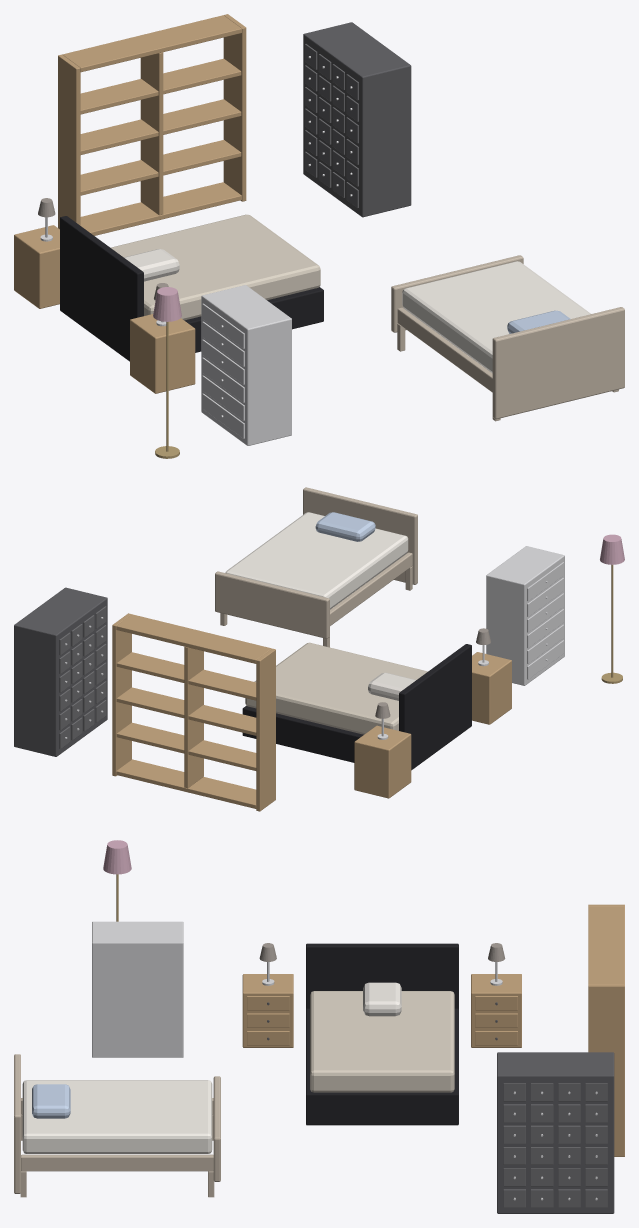
Rendered from agent_scene.glb.
The picture shows the model from 3 angles, top to bottom: view 1: azimuth 30°, elevation 25°; view 2: azimuth 150°, elevation 25°; view 3: azimuth 270°, elevation 25°; orthographic projection. The views are drawn at different scales.
Visible parts, largest first — view 1: bookshelf, bed_beige, bed_black, cabinet_dark, dresser_marble, nightstand_2, nightstand_1, lamp_floor; view 2: bookshelf, bed_beige, bed_black, cabinet_dark, dresser_marble, nightstand_1, nightstand_2, lamp_floor; view 3: bed_black, bed_beige, cabinet_dark, dresser_marble, bookshelf, nightstand_2, nightstand_1, lamp_floor.
Boxes of the visible parts, x1,y1,x2,y2 form: bookshelf: (58,14,246,235); bed_beige: (391,255,624,421); bed_black: (60,214,323,361); cabinet_dark: (303,22,411,217); dresser_marble: (201,285,291,445); nightstand_2: (130,314,195,393); nightstand_1: (14,225,59,308); lamp_floor: (153,287,181,458); bookshelf: (112,613,275,811); bed_beige: (215,487,417,647); bed_black: (242,642,471,770); cabinet_dark: (14,587,107,756); dresser_marble: (486,546,564,685); nightstand_1: (354,725,411,798); nightstand_2: (472,652,511,724); lamp_floor: (600,534,624,683); bed_black: (306,943,458,1125); bed_beige: (14,1054,220,1197); cabinet_dark: (497,1052,614,1213); dresser_marble: (92,921,183,1057); bookshelf: (588,904,624,1156); nightstand_2: (242,974,293,1047); nightstand_1: (471,974,521,1047); lamp_floor: (103,840,131,921).
Size of the model in its own units: 5.05 by 1.85 by 6.
